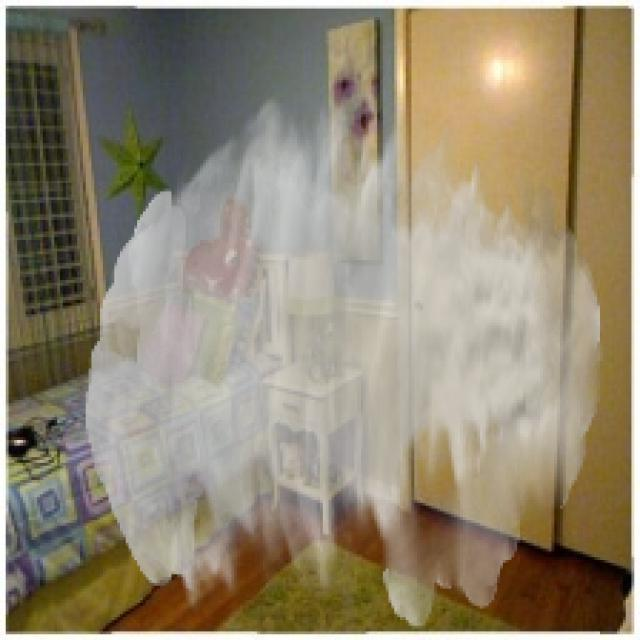Smoke: (86, 91, 603, 628)
